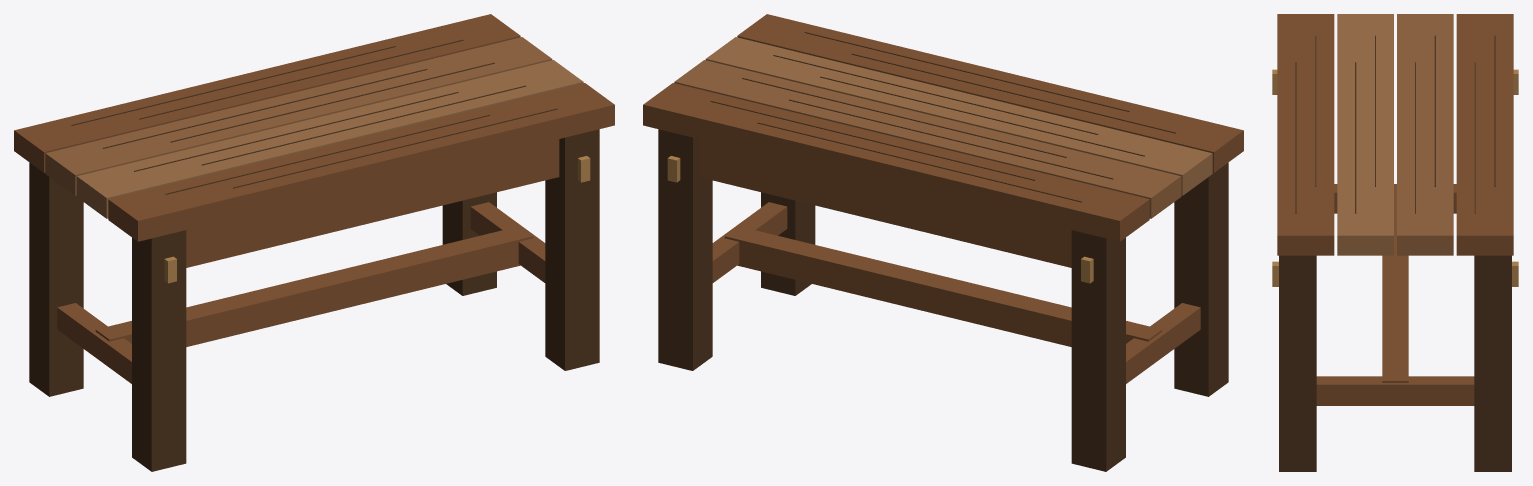
File: LV_BAN_GO_01.glb
3 renders of one model, left to right at view 1: azimuth 30°, elevation 25°; view 2: azimuth 150°, elevation 25°; view 3: azimuth 270°, elevation 25°, orthographic. The views are drawn at different scales.
Parts seen in each view (by area): view 1: LV_BAN_GO_01-surface-825331, LV_BAN_GO_01-surface-50351f, LV_BAN_GO_01-surface-9d7048, LV_BAN_GO_01-surface-936540, LV_BAN_GO_01-surface-b68850; view 2: LV_BAN_GO_01-surface-825331, LV_BAN_GO_01-surface-50351f, LV_BAN_GO_01-surface-936540, LV_BAN_GO_01-surface-9d7048, LV_BAN_GO_01-surface-b68850; view 3: LV_BAN_GO_01-surface-825331, LV_BAN_GO_01-surface-50351f, LV_BAN_GO_01-surface-936540, LV_BAN_GO_01-surface-9d7048, LV_BAN_GO_01-surface-b68850.
Boxes of the visible parts, x1,y1,x2,y2 form: LV_BAN_GO_01-surface-825331: (14, 14, 614, 383); LV_BAN_GO_01-surface-50351f: (29, 39, 599, 471); LV_BAN_GO_01-surface-9d7048: (76, 60, 583, 218); LV_BAN_GO_01-surface-936540: (45, 37, 552, 195); LV_BAN_GO_01-surface-b68850: (164, 156, 590, 283); LV_BAN_GO_01-surface-825331: (643, 14, 1243, 383); LV_BAN_GO_01-surface-50351f: (658, 32, 1228, 471); LV_BAN_GO_01-surface-936540: (674, 60, 1181, 218); LV_BAN_GO_01-surface-9d7048: (705, 37, 1212, 195); LV_BAN_GO_01-surface-b68850: (667, 156, 1093, 283); LV_BAN_GO_01-surface-825331: (1277, 14, 1513, 405); LV_BAN_GO_01-surface-50351f: (1279, 35, 1511, 471); LV_BAN_GO_01-surface-936540: (1397, 14, 1453, 255); LV_BAN_GO_01-surface-9d7048: (1337, 14, 1393, 255); LV_BAN_GO_01-surface-b68850: (1272, 69, 1518, 286).
Size of the model in its own units: 1.8 by 0.922 by 0.845.
